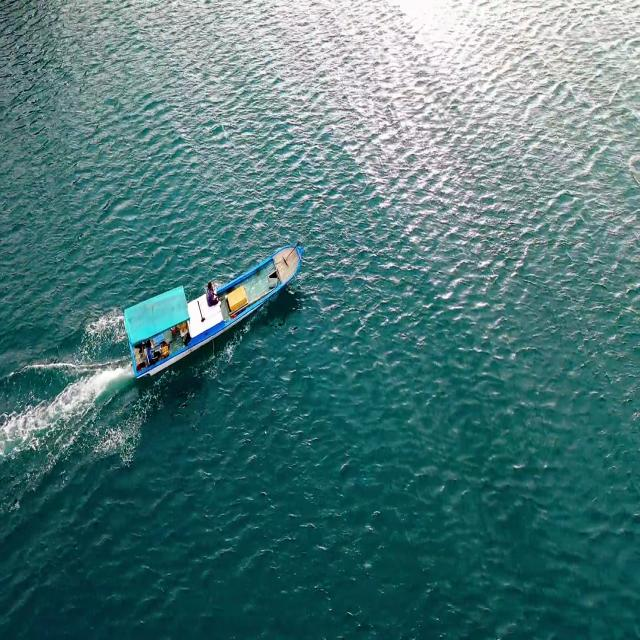ship: (125, 231, 303, 392)
